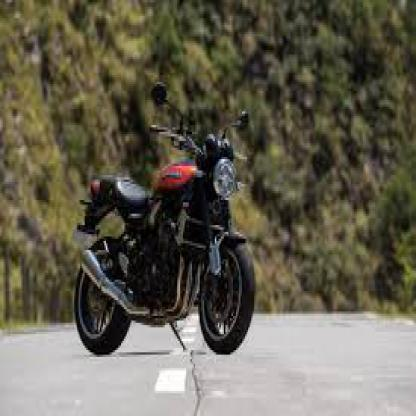Motorcycle: (62, 79, 269, 365)
